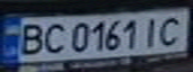0: (66, 19, 90, 54)
1: (87, 18, 109, 52), (121, 16, 142, 51)
6: (103, 17, 124, 52)
B: (12, 20, 48, 56)
C: (154, 14, 190, 47), (36, 20, 69, 55)
I: (139, 15, 166, 48)
